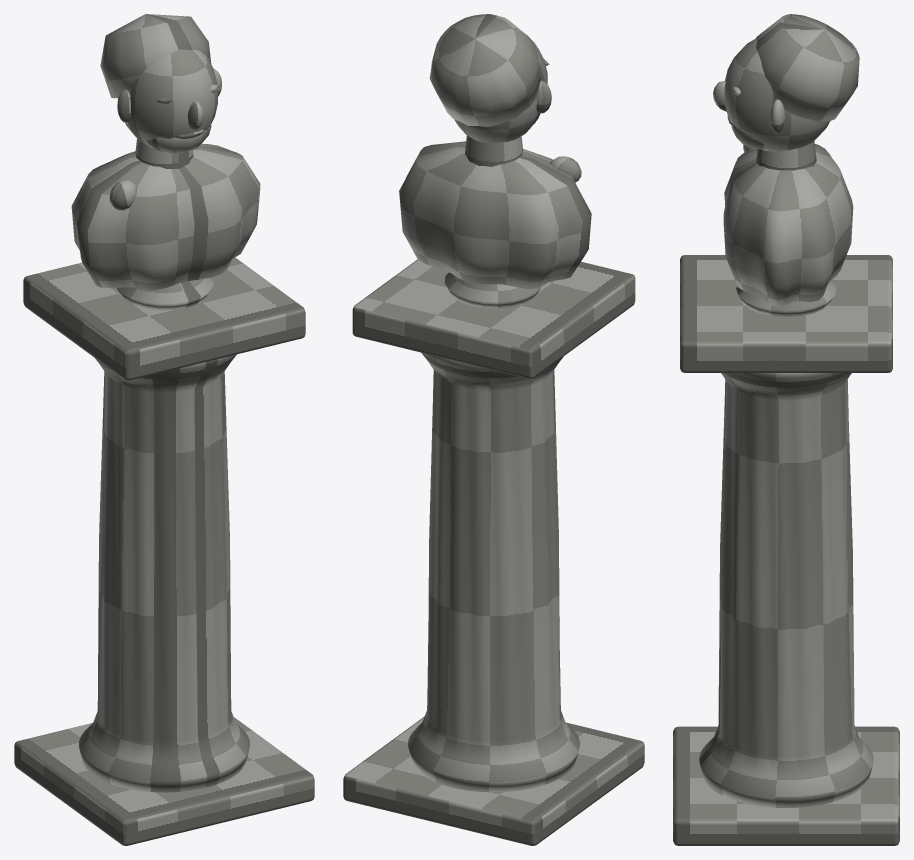
File: bust.glb
3 views of the same model, side by side, from view 1: azimuth 30°, elevation 25°; view 2: azimuth 150°, elevation 25°; view 3: azimuth 270°, elevation 25° (orthographic).
Visible parts, largest first — view 1: dyn_stone_variant; view 2: dyn_stone_variant; view 3: dyn_stone_variant.
Boxes of the visible parts, bbox=[...] form: dyn_stone_variant: bbox=[14, 14, 314, 845]; dyn_stone_variant: bbox=[343, 14, 644, 845]; dyn_stone_variant: bbox=[673, 14, 899, 845].
Size of the model in its own units: 0.4501 by 1.7 by 0.4501.
Materials: 1 (1 with a texture image).
